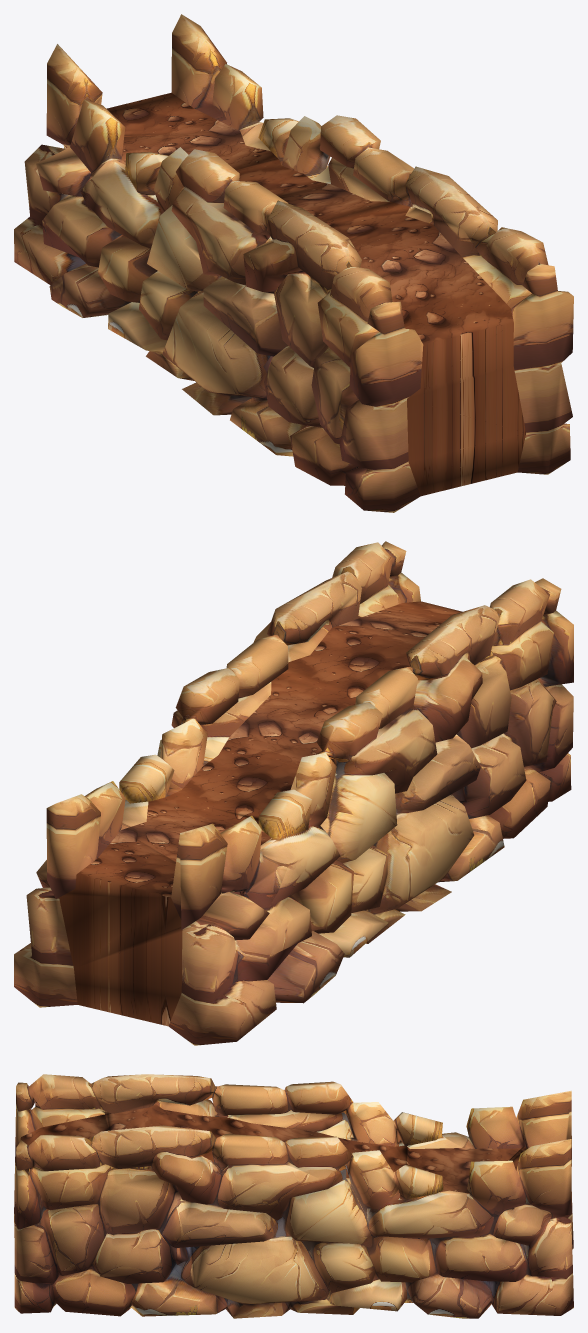
File: wall3.fbx
3 renders of one model, top to bottom at view 1: azimuth 30°, elevation 25°; view 2: azimuth 150°, elevation 25°; view 3: azimuth 270°, elevation 25°, orthographic. The views are drawn at different scales.
Parts seen in each view (by area): view 1: Plane.010; view 2: Plane.010; view 3: Plane.010.
Part boxes in pixels (bbox=[...]): Plane.010: bbox=[14, 14, 573, 512]; Plane.010: bbox=[14, 541, 573, 1045]; Plane.010: bbox=[14, 1074, 573, 1318].
Size of the model in its own units: 371 by 318 by 901.
Materials: 2 (2 with a texture image).
